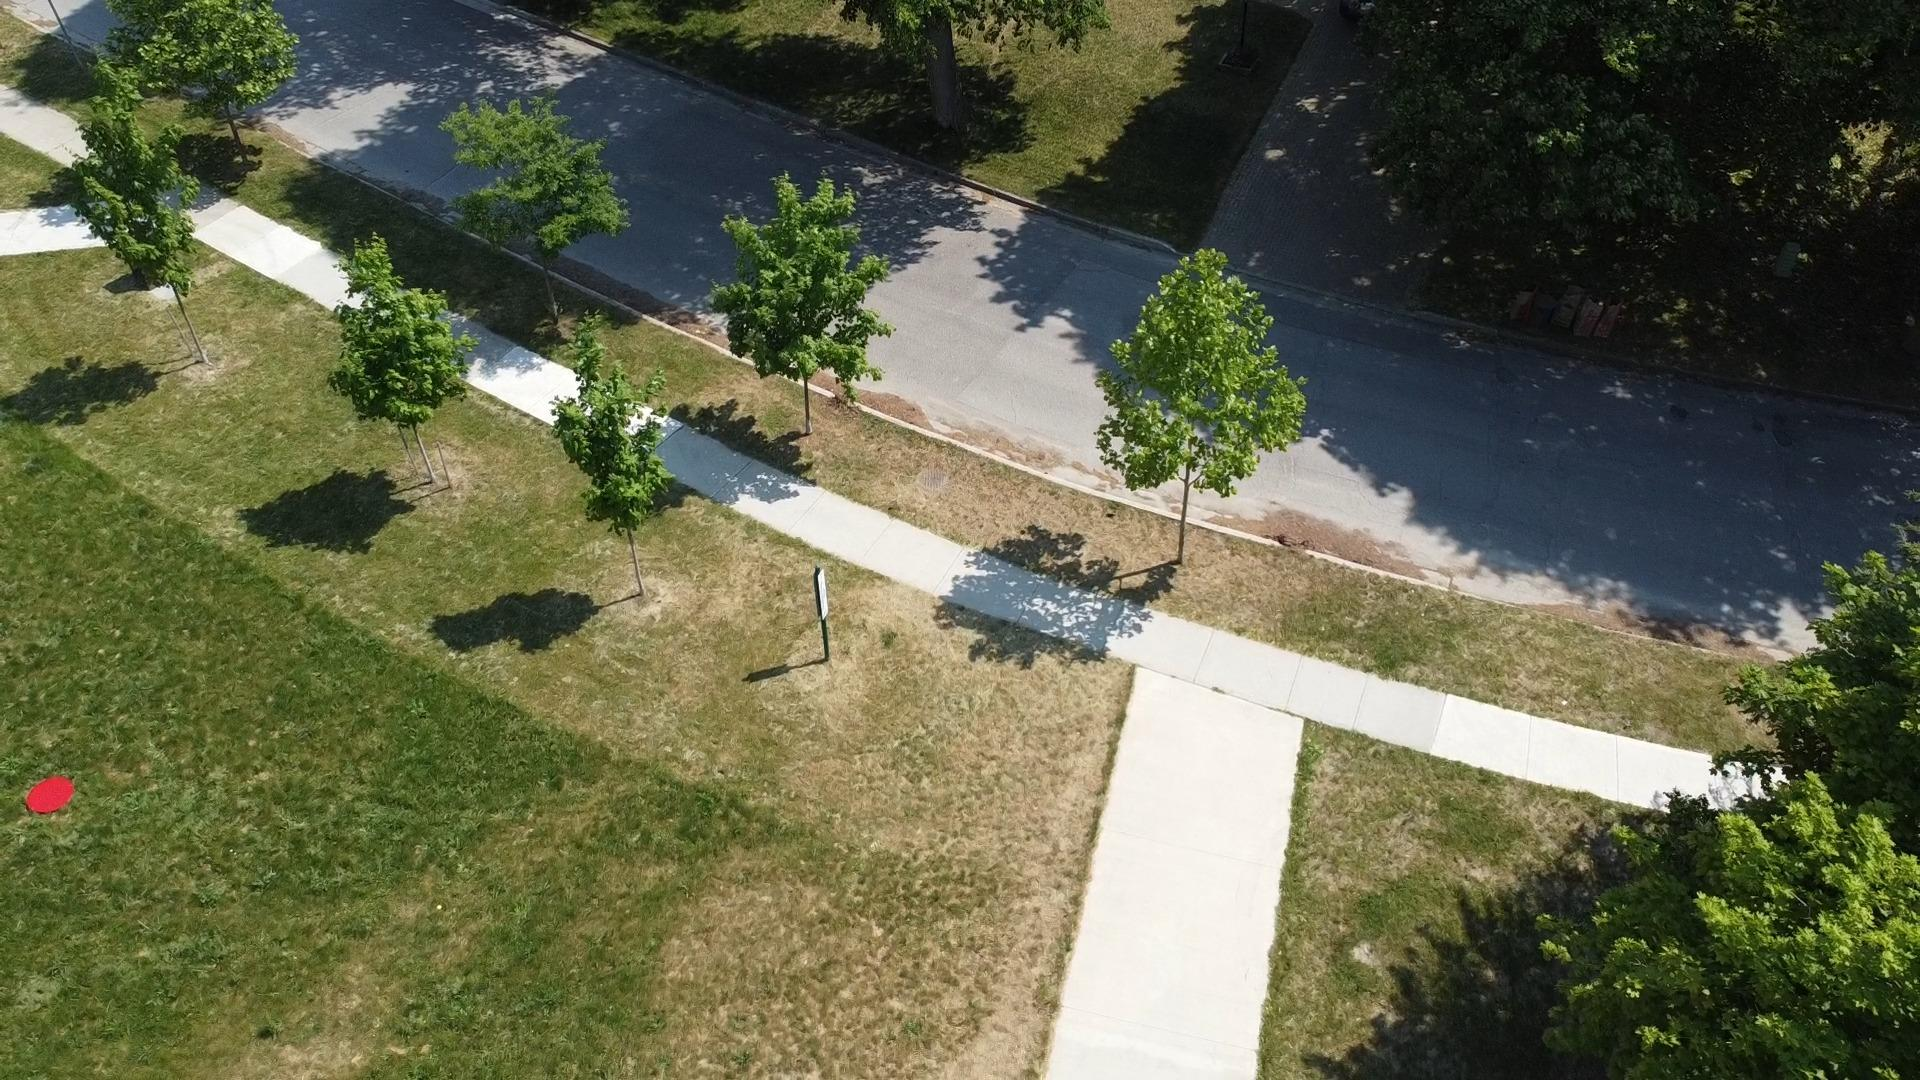Red: (25, 775, 76, 815)
